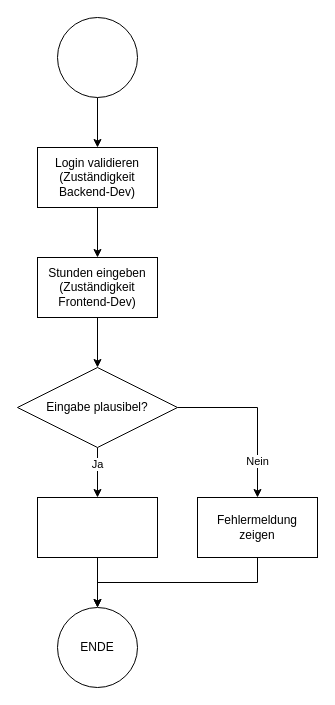
This 335x705 diagram has some shape labels left out. The box of each missing label's shape, as (x1, y1, x2, y2) in pixels:
In Datenbank speichern: (36, 496, 158, 558)
START: User öffnet App: (56, 16, 138, 98)
